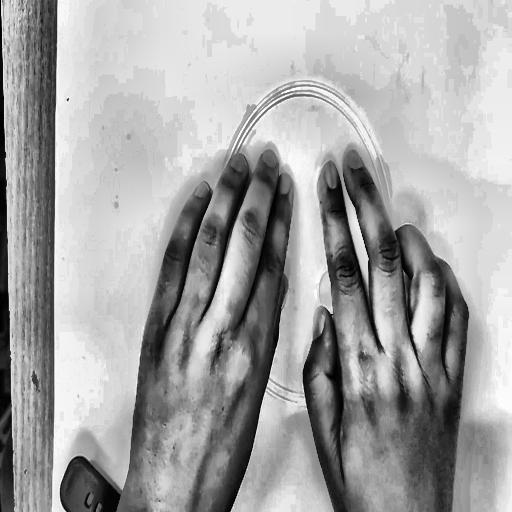button: (214, 74, 409, 423)
